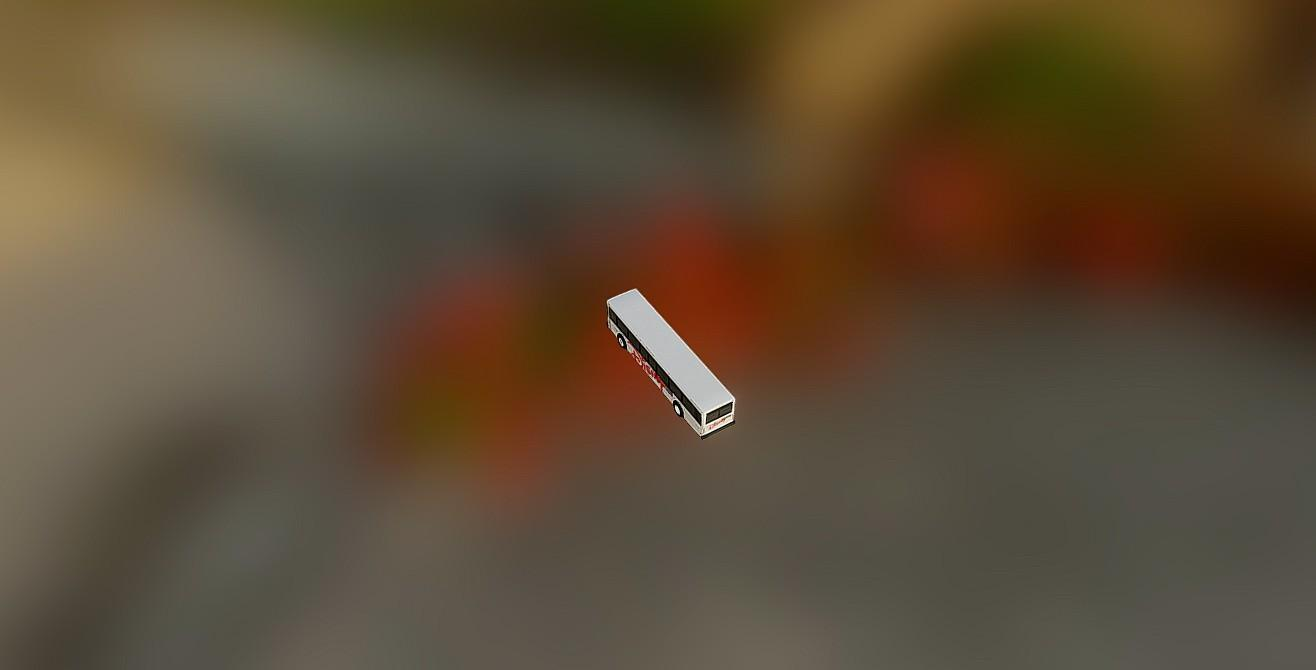Bus: (604, 286, 736, 439)
